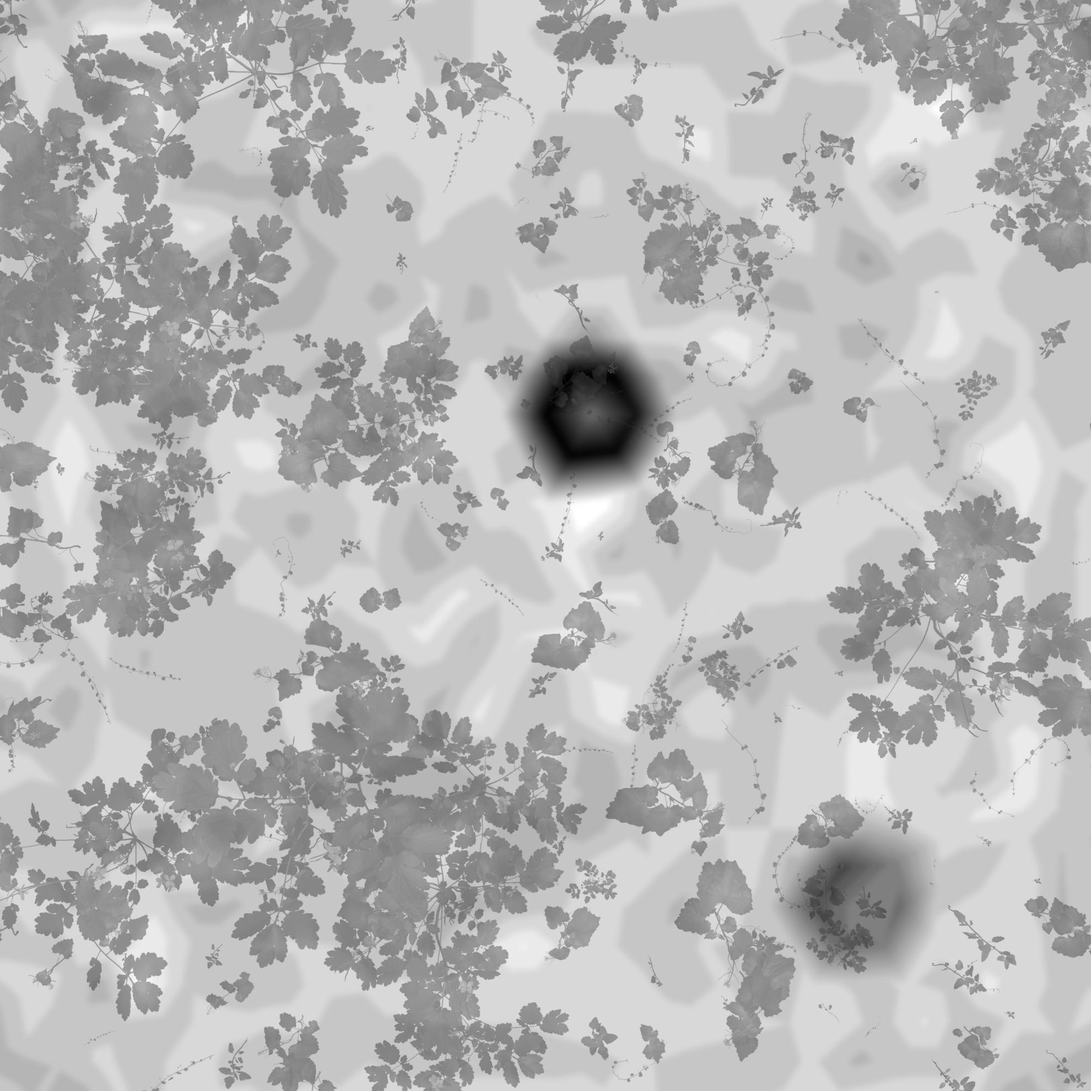landmine: (511, 333, 658, 491), (783, 823, 936, 971)
